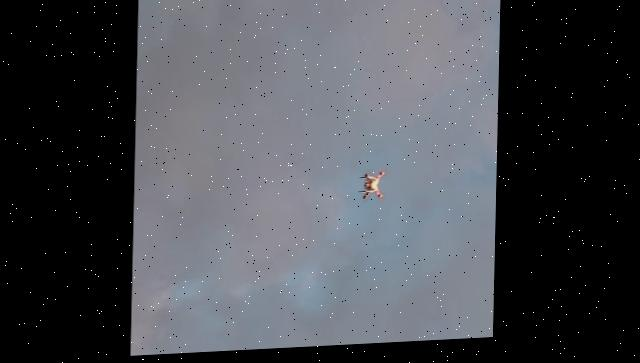drone: (358, 172, 388, 204)
